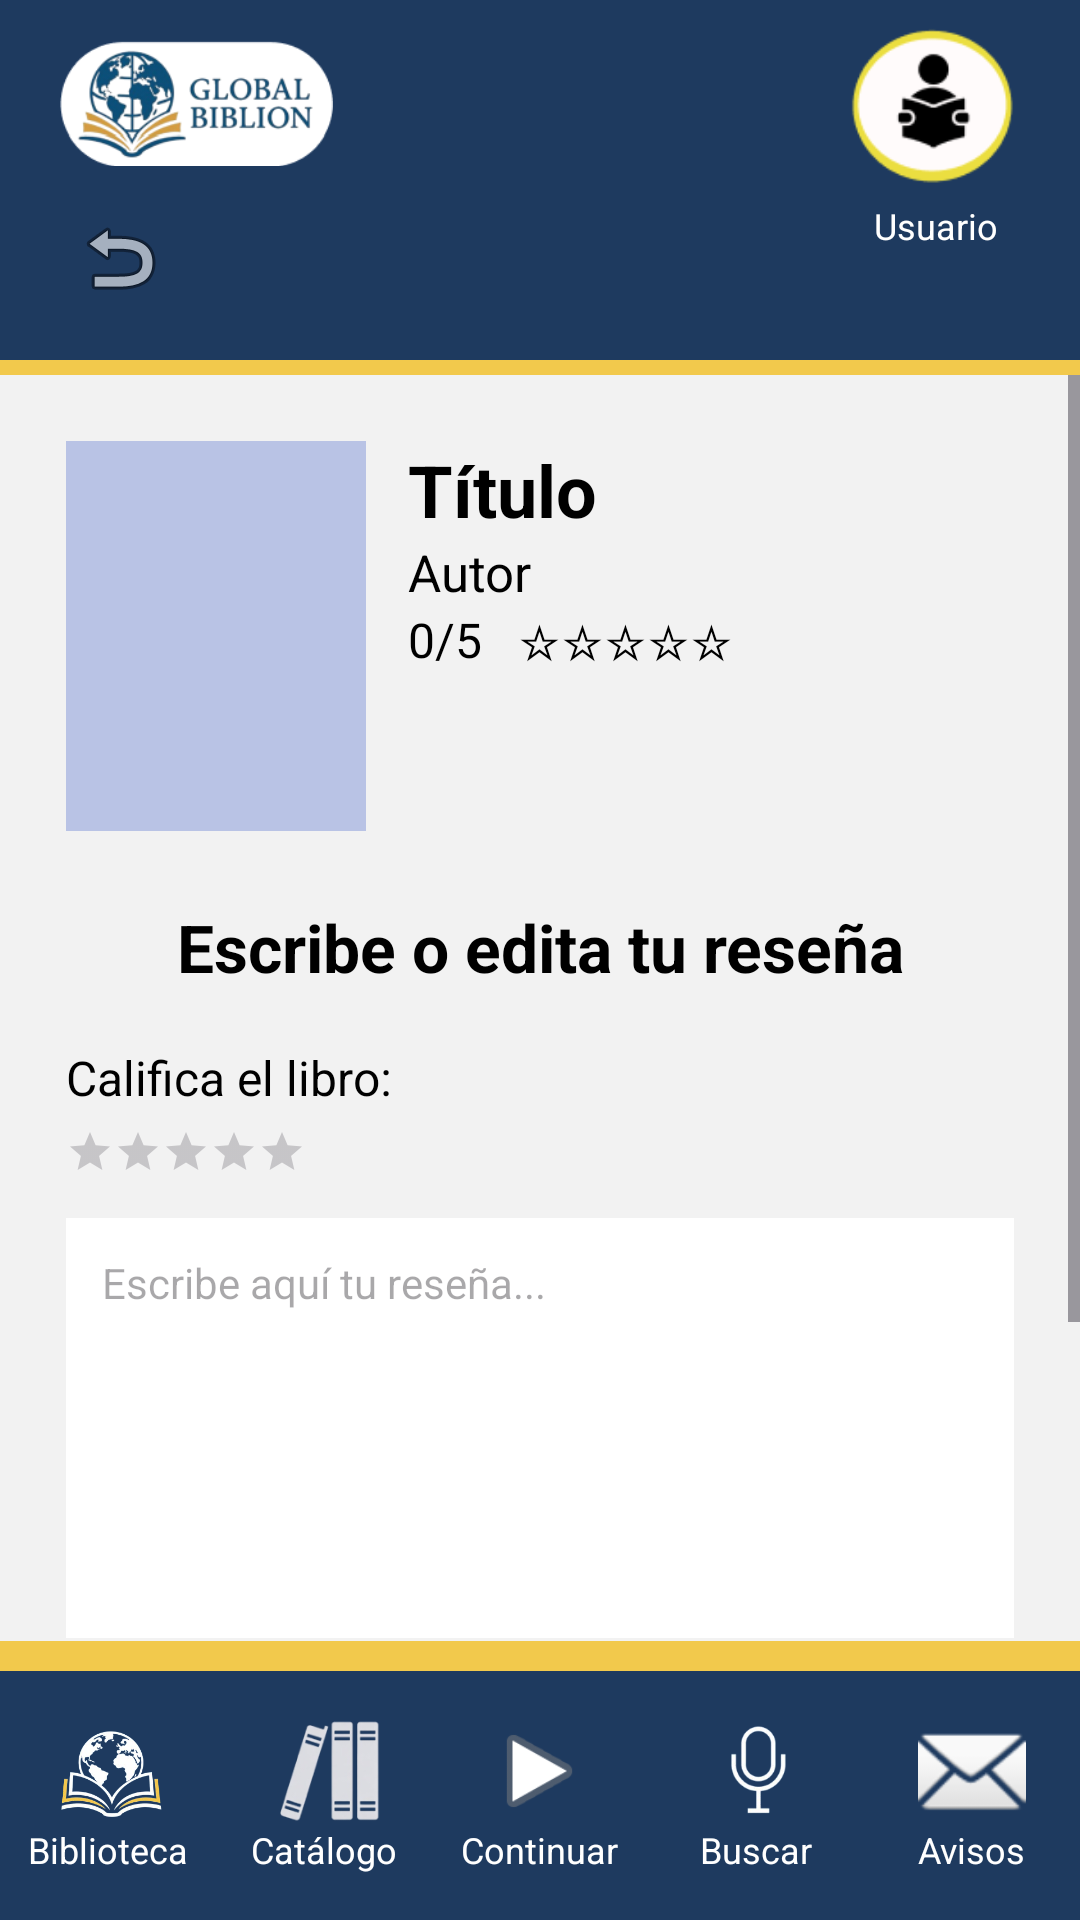

Icons on this 1080*1920 Android screen, each with its box as (x1, y1, x2, y2):
email: (918, 1734, 1026, 1810)
microfono: (731, 1726, 786, 1813)
play: (507, 1735, 572, 1807)
revert: (87, 228, 155, 290)
